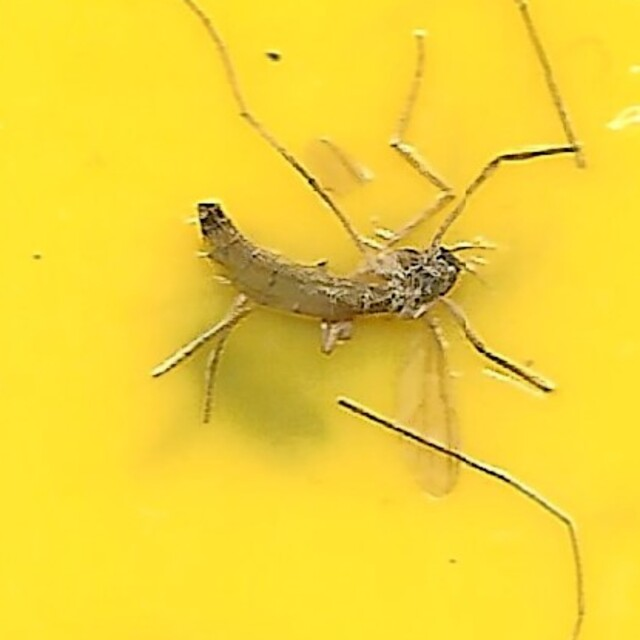Nematocera: (154, 139, 486, 501)
